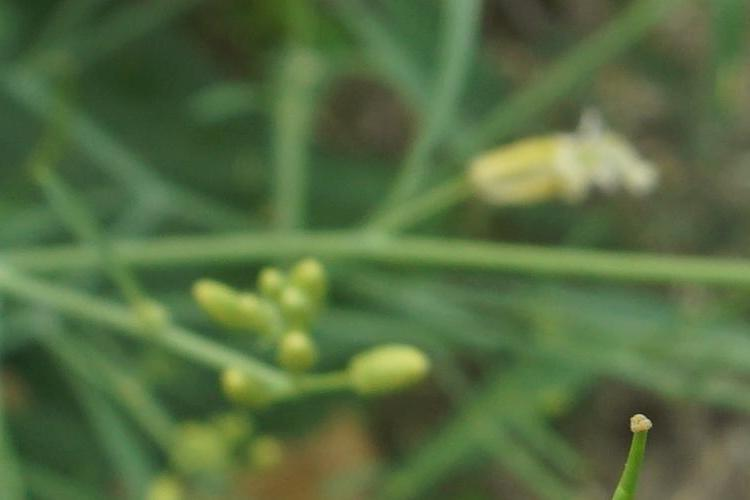bud: (340, 336, 435, 405), (177, 267, 256, 347), (218, 367, 294, 409), (237, 285, 290, 342), (271, 327, 329, 375), (286, 251, 326, 297), (279, 285, 309, 333), (252, 267, 291, 302)
pod: (598, 401, 675, 500)
